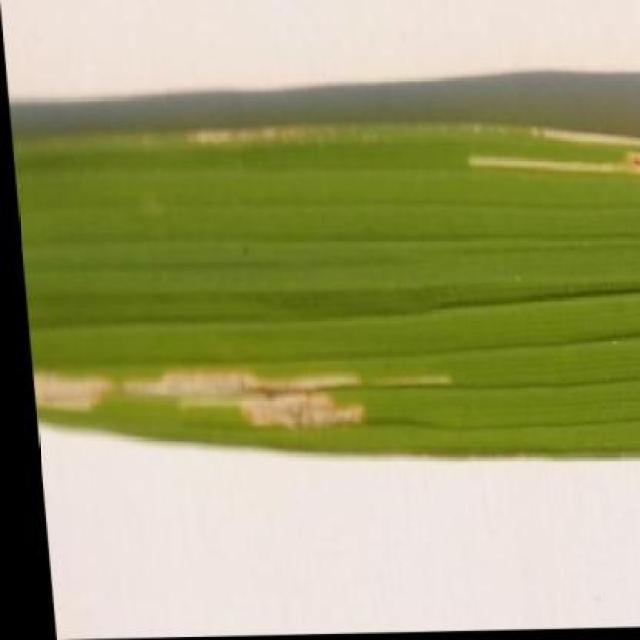Brown_Spot: (7, 8, 638, 478), (440, 112, 640, 272)
